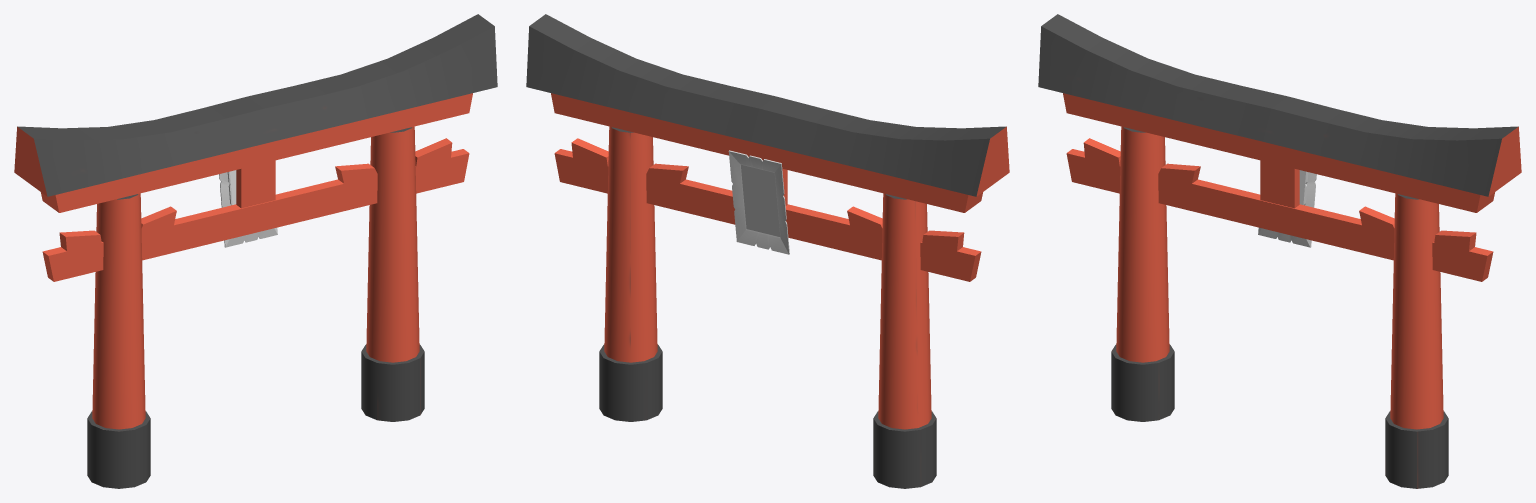
Rendered from arc.fbx.
3 views of the same model, side by side, from view 1: azimuth 30°, elevation 25°; view 2: azimuth 150°, elevation 25°; view 3: azimuth 330°, elevation 25° (orthographic).
Parts seen in each view (by area): view 1: Arc, Frame; view 2: Arc, Frame; view 3: Arc, Frame.
Part boxes in pixels (x1,y1,x2,y2): Arc: (14,14,497,488); Frame: (219,170,277,247); Arc: (526,14,1009,488); Frame: (728,150,789,254); Arc: (1038,14,1521,488); Frame: (1258,170,1316,247).
Size of the model in its own units: 1682 by 1276 by 210.
